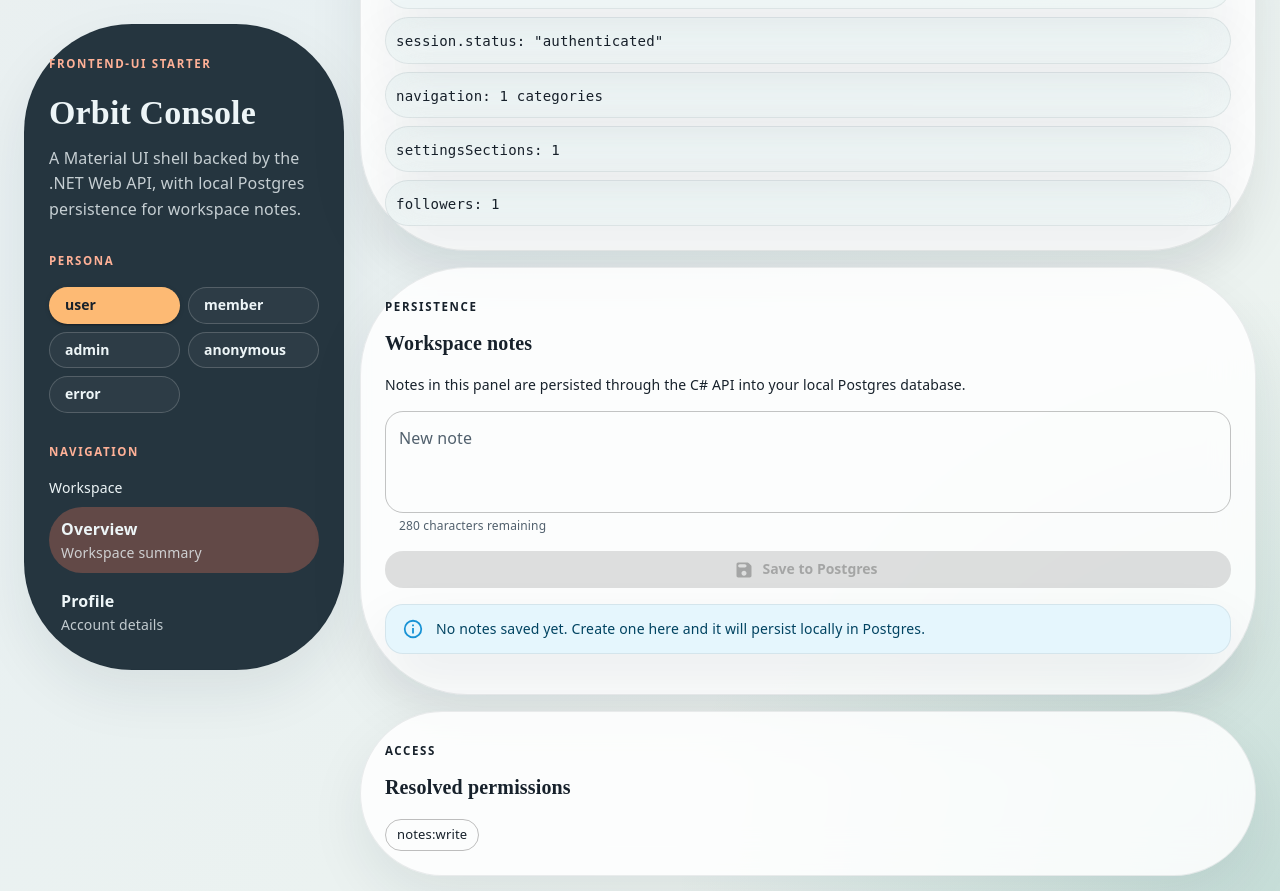
Test case: Workspace notes UI › renders validation errors
(page scrolled)
Type "hello" into the text box labelled "New note" at [808, 462], box [399, 427, 1217, 496]
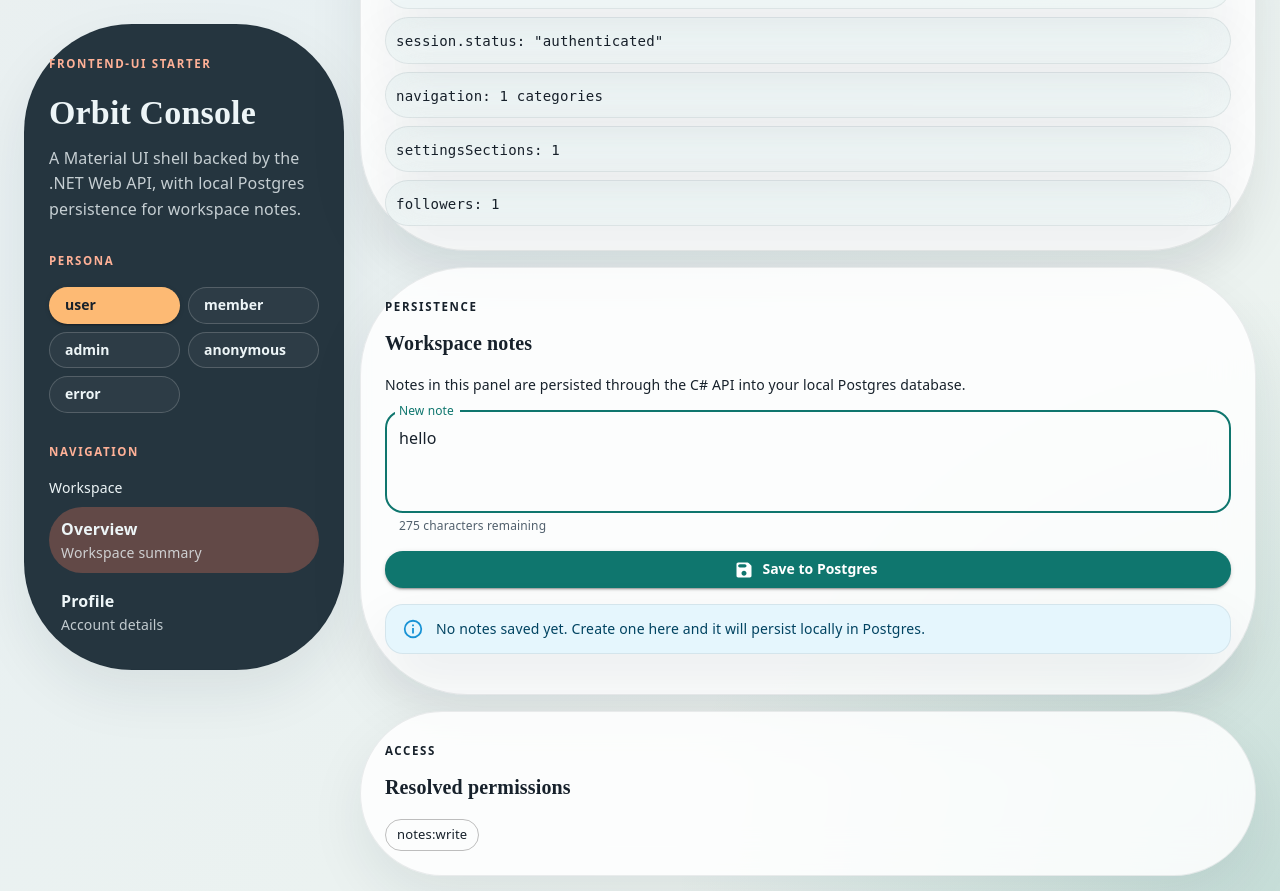
Click the button "Save to Postgres" at [808, 570], box [385, 551, 1231, 588]
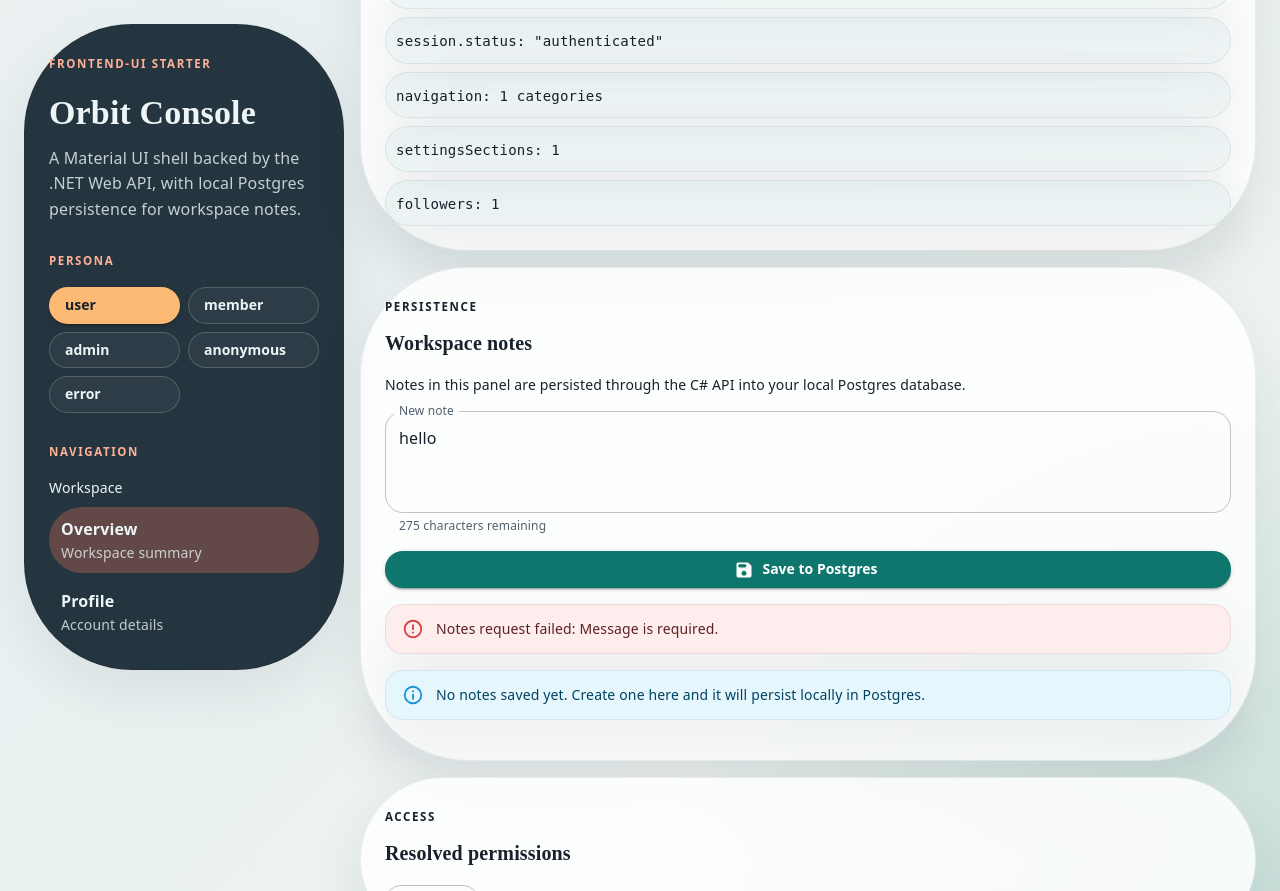
Expected: the text "Notes request failed: Message is required." is shown, [436, 619, 718, 638]
